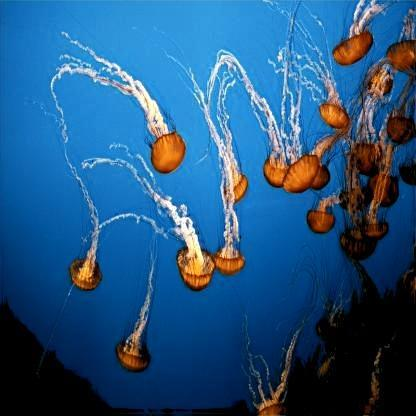Dressed: (58, 31, 186, 173), (183, 71, 249, 205), (147, 178, 216, 290), (279, 29, 318, 193), (238, 316, 301, 413), (117, 227, 157, 372), (65, 175, 102, 290), (253, 92, 291, 188), (330, 0, 378, 66), (346, 263, 384, 331), (352, 96, 384, 176), (314, 64, 351, 131), (212, 205, 246, 275), (352, 348, 388, 414), (304, 345, 338, 413), (315, 280, 350, 342), (335, 153, 367, 211), (370, 145, 400, 205), (387, 81, 415, 145), (338, 215, 376, 258), (387, 15, 415, 73), (306, 196, 340, 236), (361, 204, 390, 240), (364, 64, 393, 99), (401, 263, 415, 310), (401, 158, 416, 187)
